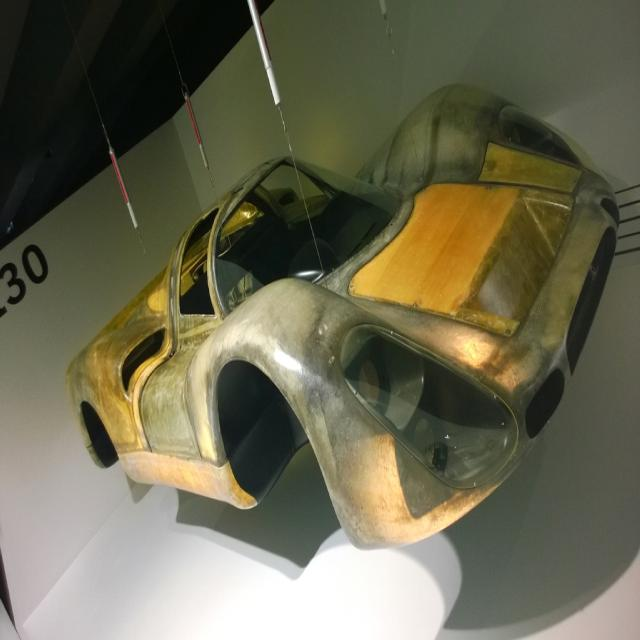car: (59, 91, 639, 561)
